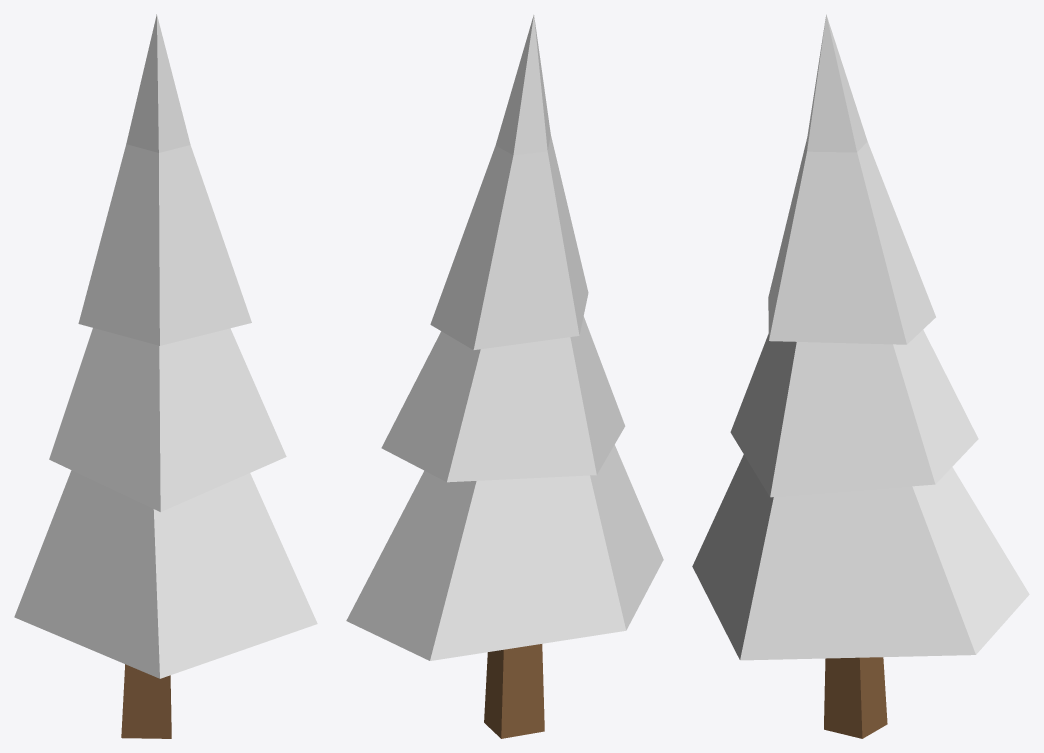
The model's file is Fir_Tree_OneSided_s_Snow_01_LOD.fbx.
The picture shows the model from 3 angles, left to right: view 1: azimuth 30°, elevation 25°; view 2: azimuth 150°, elevation 25°; view 3: azimuth 270°, elevation 25°; orthographic projection. The views are drawn at different scales.
Parts seen in each view (by area): view 1: Fir_Tree_OneSided_s_Snow_01_LOD0; view 2: Fir_Tree_OneSided_s_Snow_01_LOD0; view 3: Fir_Tree_OneSided_s_Snow_01_LOD0.
Part boxes in pixels (x1,y1,x2,y2): Fir_Tree_OneSided_s_Snow_01_LOD0: (14,14,317,738); Fir_Tree_OneSided_s_Snow_01_LOD0: (346,15,663,738); Fir_Tree_OneSided_s_Snow_01_LOD0: (692,14,1029,738).
Size of what is drawn, in the model's own units: 90.21 by 265 by 114.
